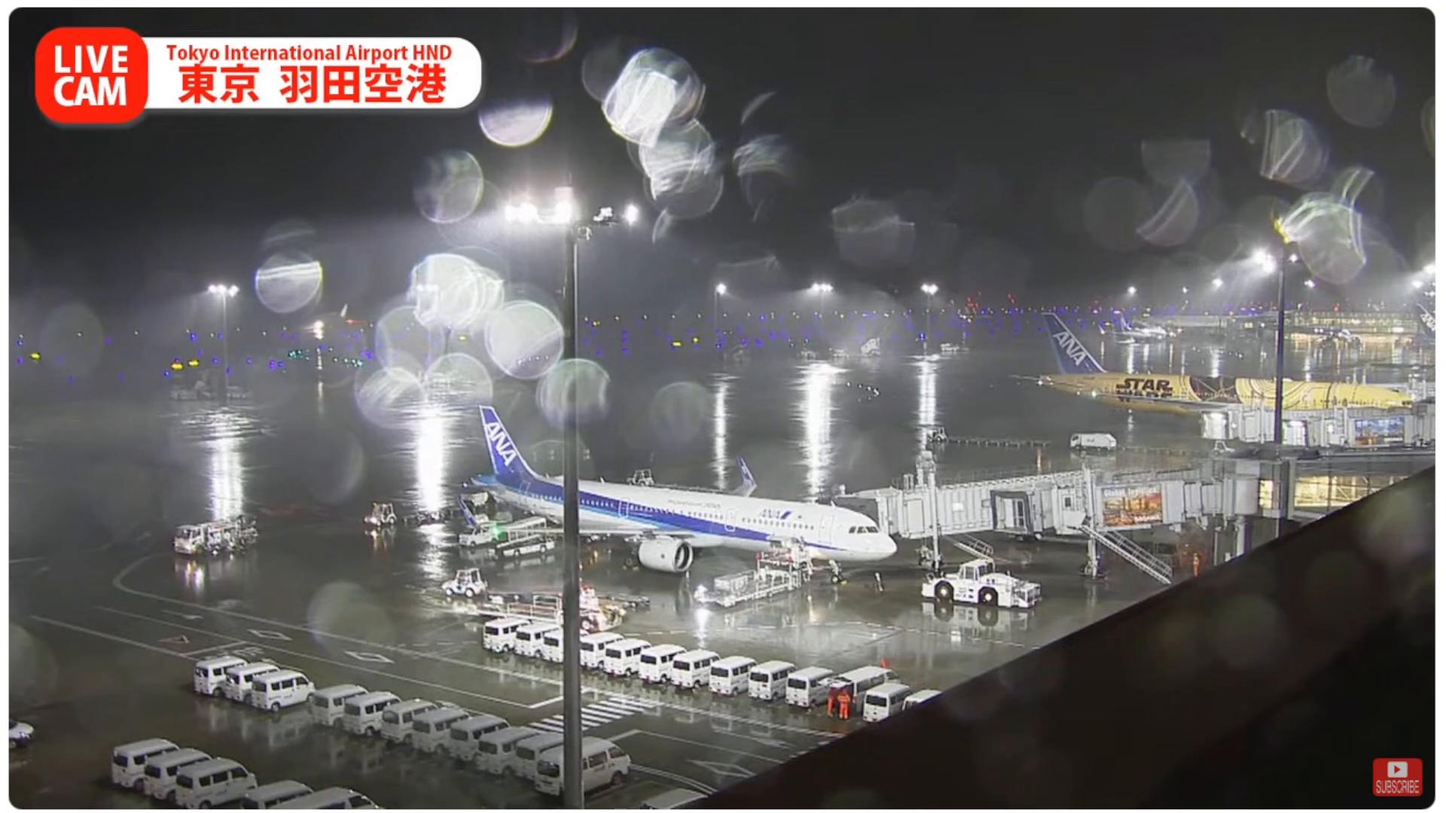APS: (920, 557, 1042, 611)
Aerobridge: (837, 461, 1193, 540), (988, 473, 1227, 539)
Airplane: (456, 406, 894, 586)
Dolly: (487, 583, 651, 608), (402, 499, 477, 526)
JCPL: (692, 533, 821, 610), (456, 589, 626, 631)
Skyloader: (483, 513, 557, 558)
Tractor: (442, 566, 483, 599), (361, 500, 398, 527)
Window: (1289, 476, 1414, 509)
